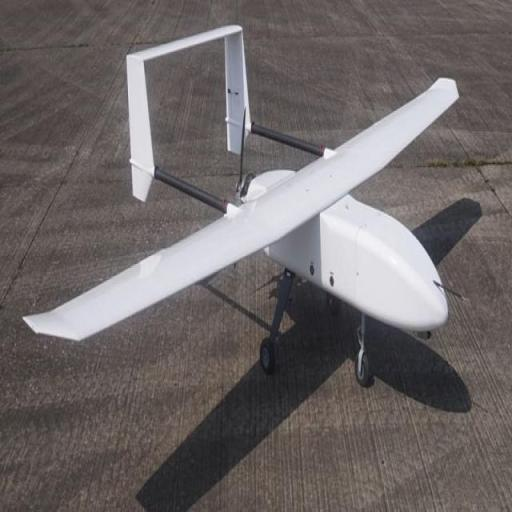uav: (19, 22, 496, 388)
